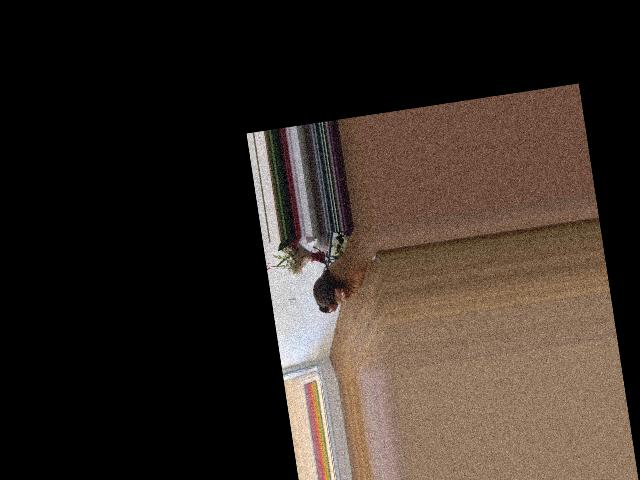beet: (306, 245, 339, 314)
